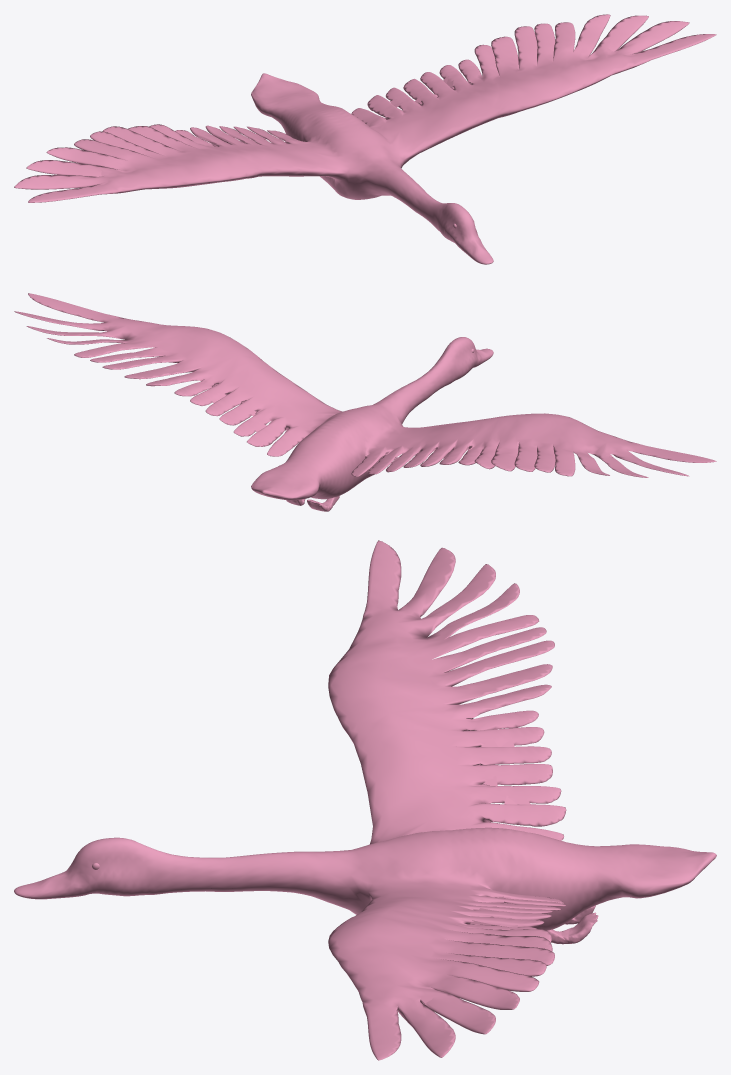
3 views of the same model, one above another, from view 1: azimuth 30°, elevation 25°; view 2: azimuth 150°, elevation 25°; view 3: azimuth 270°, elevation 25° (orthographic). The views are drawn at different scales.
Visible parts, largest first — view 1: goosecan; view 2: goosecan; view 3: goosecan.
Part boxes in pixels (x1=…): goosecan: x1=14, y1=14, x2=716, y2=264; goosecan: x1=14, y1=293, x2=716, y2=511; goosecan: x1=14, y1=540, x2=716, y2=1060.
Size of the model in its own units: 30.1 by 3.75 by 17.19.
